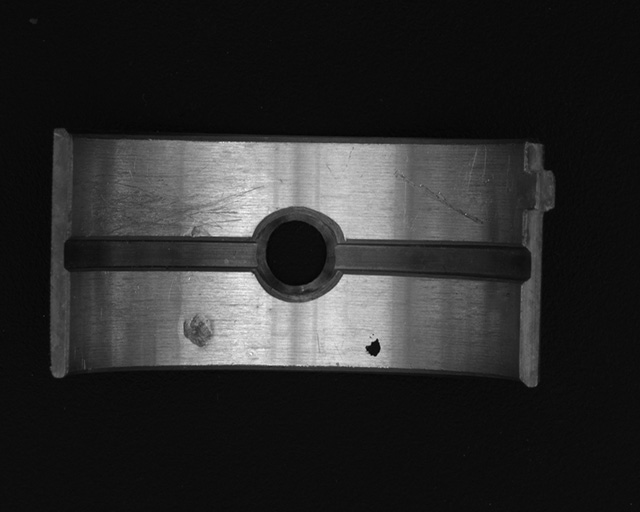blot: (365, 333, 381, 358)
bruise: (183, 313, 218, 348)
gap: (334, 239, 534, 285), (62, 233, 263, 275)
hole: (252, 208, 341, 303)
nick: (393, 170, 485, 227)
scratch: (80, 160, 267, 237)
